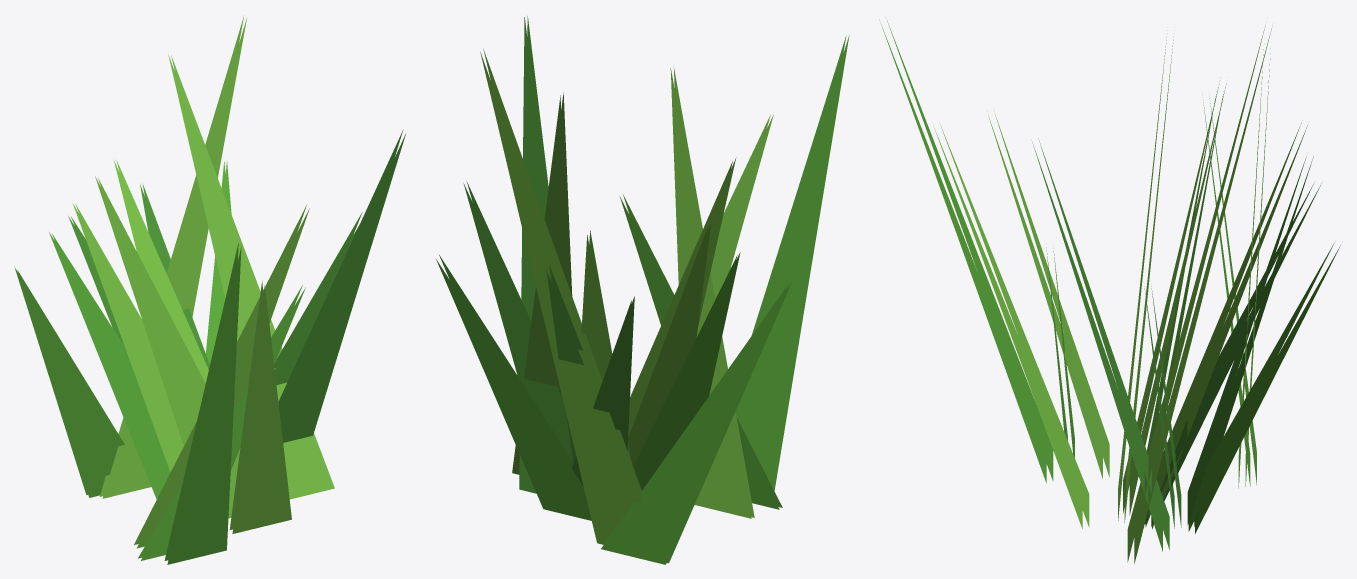
File: grass_tuft.obj
The picture shows the model from 3 angles, left to right: view 1: azimuth 30°, elevation 25°; view 2: azimuth 150°, elevation 25°; view 3: azimuth 270°, elevation 25°; orthographic projection. The views are drawn at different scales.
Parts seen in each view (by area): view 1: grass_tuft_grass_top, grass_tuft_grass_mid, grass_tuft_leaf_dark; view 2: grass_tuft_grass_mid, grass_tuft_grass_top, grass_tuft_leaf_dark; view 3: grass_tuft_grass_top, grass_tuft_grass_mid, grass_tuft_leaf_dark.
Part boxes in pixels (bbox=[...]): grass_tuft_grass_top: bbox=[72, 15, 334, 548]; grass_tuft_grass_mid: bbox=[14, 161, 305, 564]; grass_tuft_leaf_dark: bbox=[68, 129, 405, 442]; grass_tuft_grass_mid: bbox=[435, 34, 849, 564]; grass_tuft_grass_top: bbox=[480, 49, 773, 544]; grass_tuft_leaf_dark: bbox=[463, 16, 634, 493]; grass_tuft_grass_top: bbox=[933, 25, 1307, 563]; grass_tuft_grass_mid: bbox=[879, 20, 1340, 533]; grass_tuft_leaf_dark: bbox=[1032, 139, 1321, 551].
Bounding box in the file's own units: 0.3806 × 0.4929 × 0.404.
